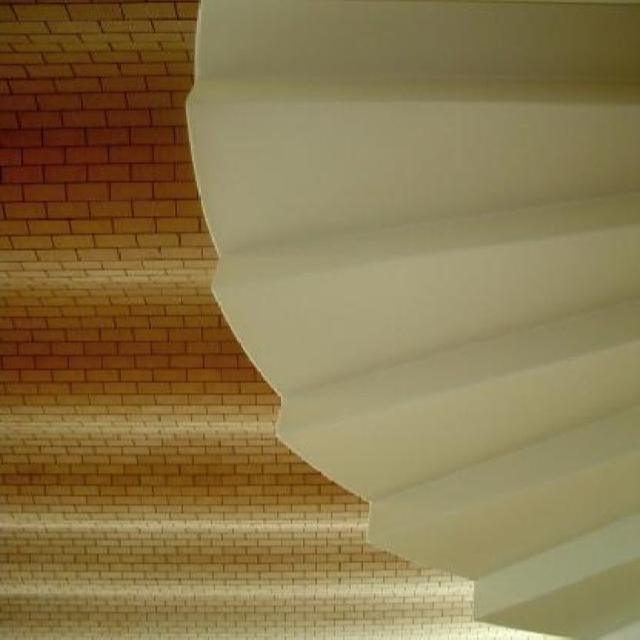stair: (183, 0, 640, 640)
